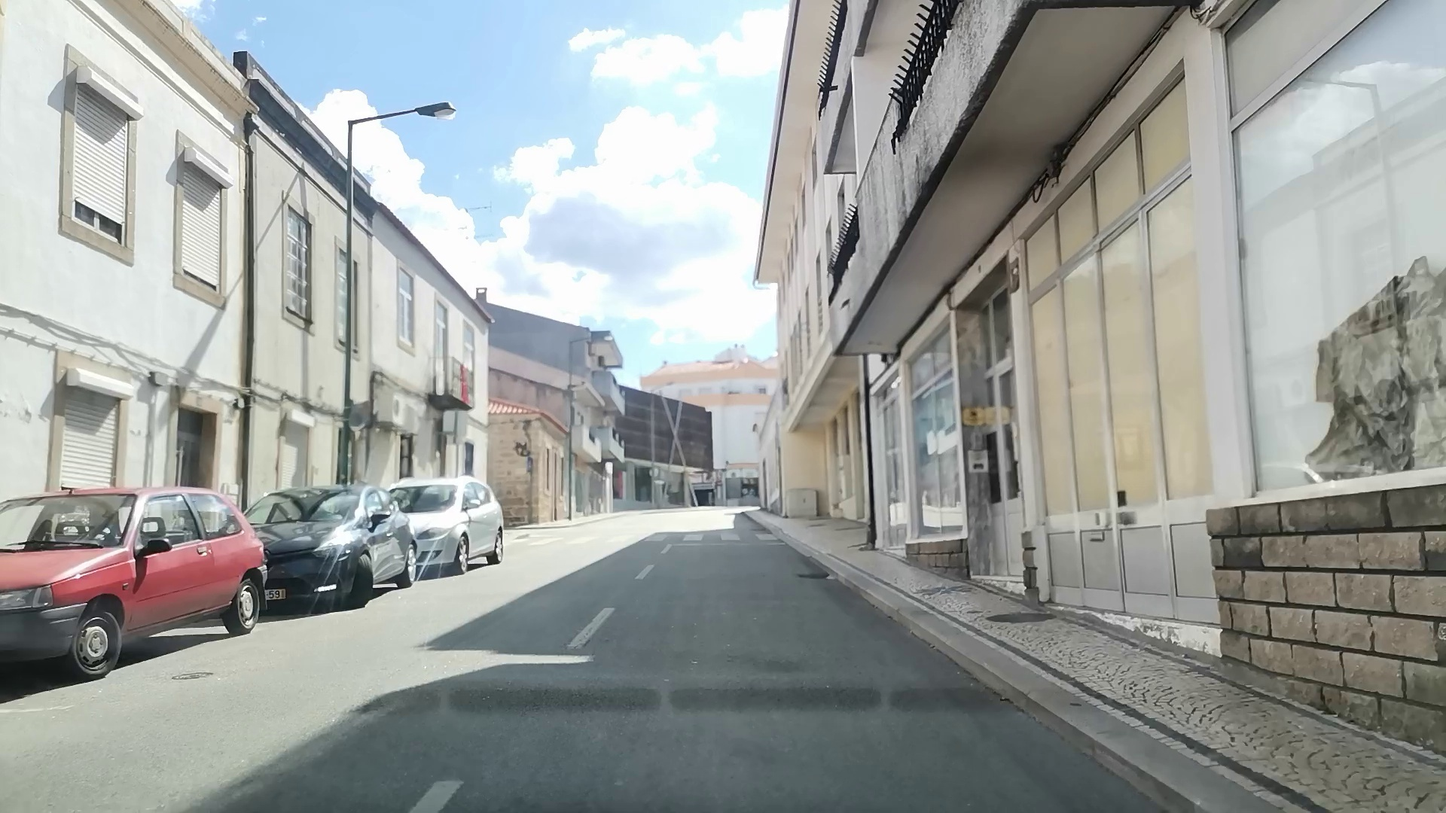Stairs: (507, 531, 779, 545)
